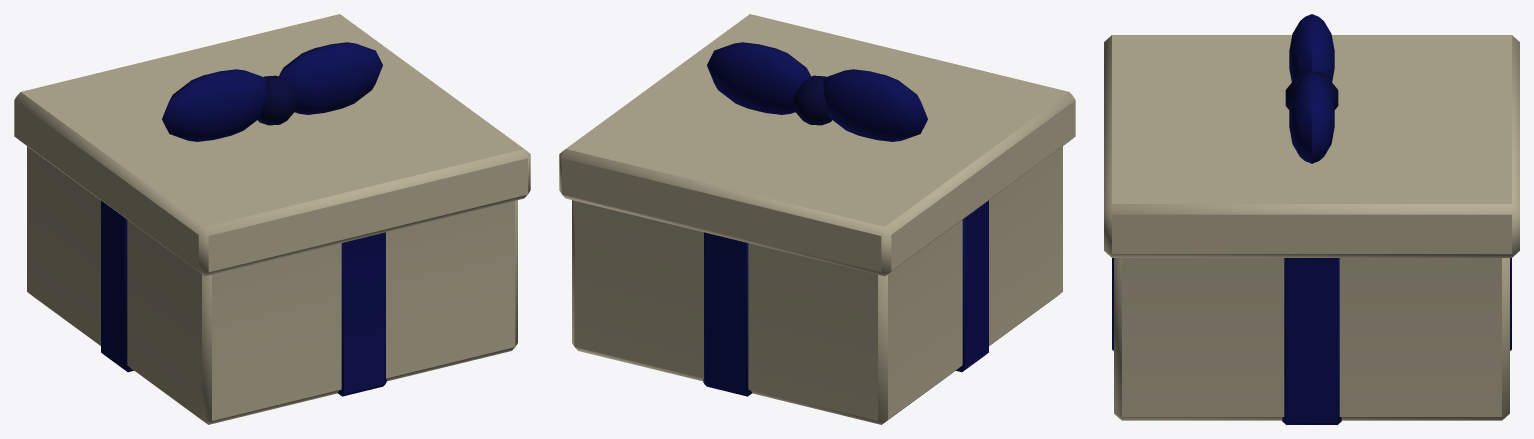
Rendered from mall-gift-box.glb.
3 views of the same model, side by side, from view 1: azimuth 30°, elevation 25°; view 2: azimuth 150°, elevation 25°; view 3: azimuth 270°, elevation 25° (orthographic). The views are drawn at different scales.
Visible parts, largest first — view 1: box__paper, ribbon__fabric; view 2: box__paper, ribbon__fabric; view 3: box__paper, ribbon__fabric.
Boxes of the visible parts, <box> form: box__paper: <box>14,14,530,424</box>; ribbon__fabric: <box>101,42,386,396</box>; box__paper: <box>559,14,1075,424</box>; ribbon__fabric: <box>703,42,988,396</box>; box__paper: <box>1104,35,1519,420</box>; ribbon__fabric: <box>1112,14,1511,424</box>.
Bounding box in the file's own units: 0.21 × 0.161 × 0.21.
